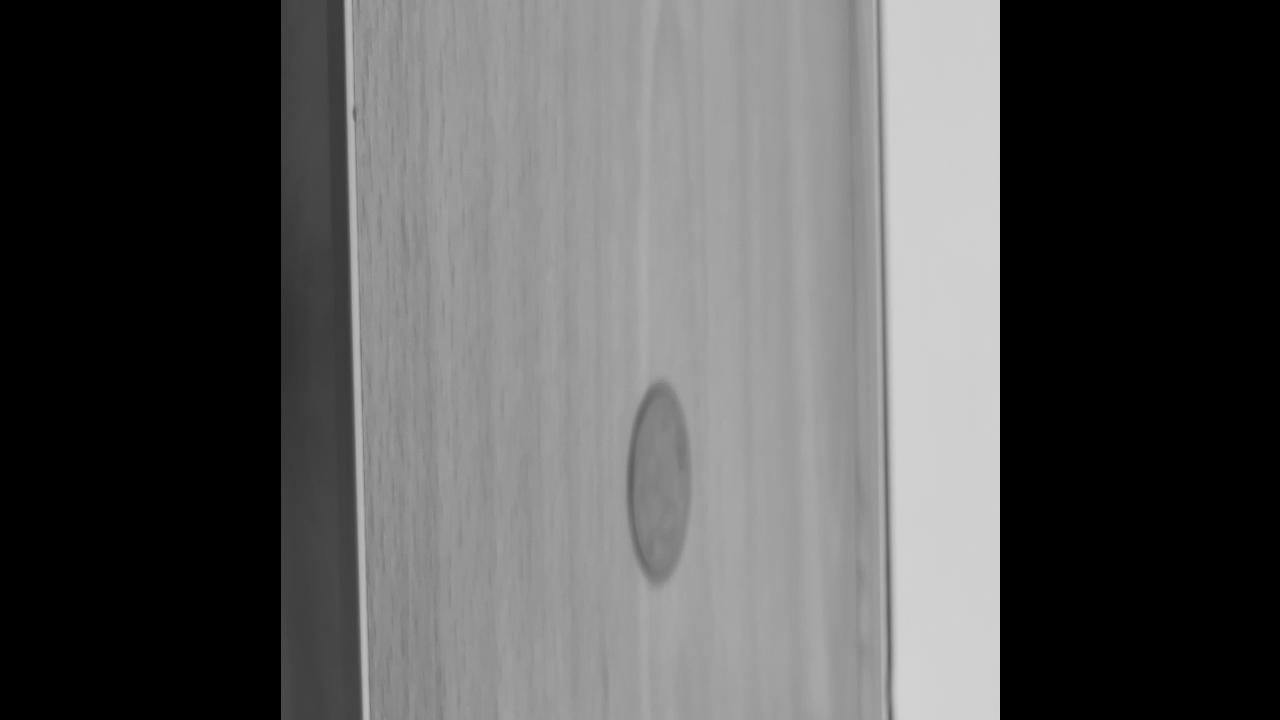coin: (628, 381, 692, 587)
